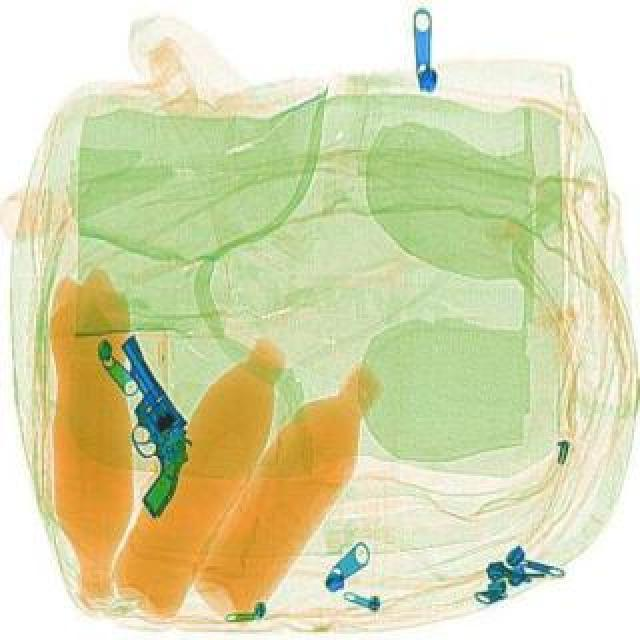gun: (84, 324, 212, 520)
